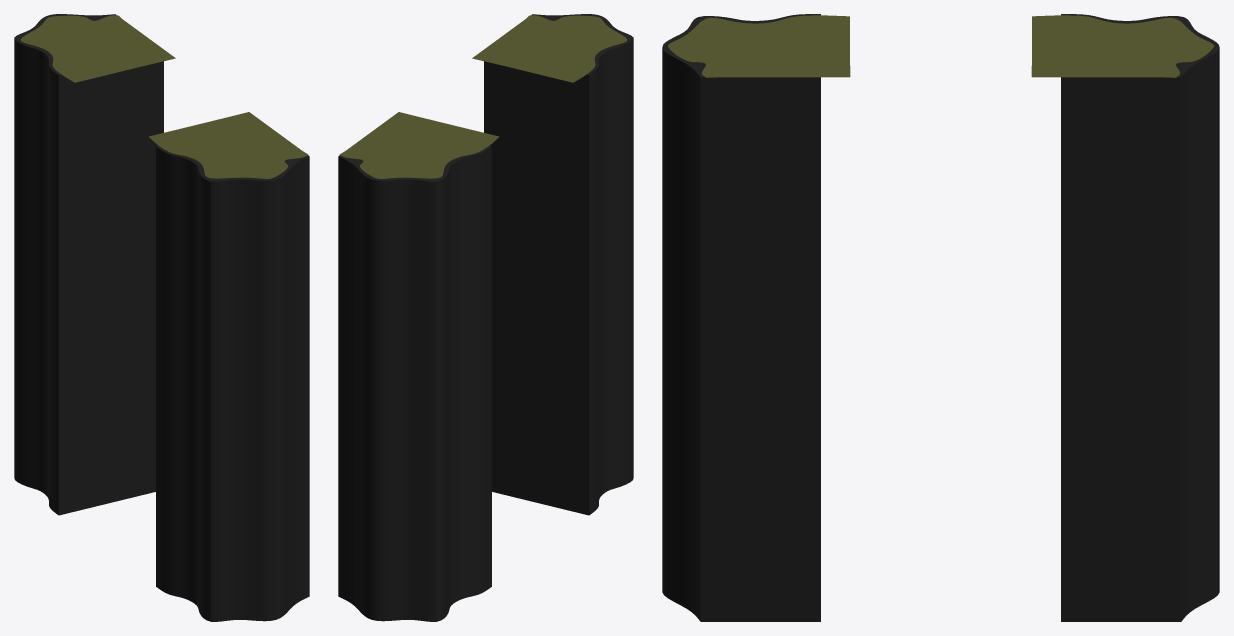
Rendered from Grass_upper.fbx.
The picture shows the model from 3 angles, left to right: view 1: azimuth 30°, elevation 25°; view 2: azimuth 150°, elevation 25°; view 3: azimuth 270°, elevation 25°; orthographic projection. The views are drawn at different scales.
Visible parts, largest first — view 1: Plane.469, Upper Grass.003; view 2: Plane.469, Upper Grass.003; view 3: Plane.469, Upper Grass.003.
Boxes of the visible parts, x1,y1,x2,y2 form: Plane.469: (14,14,309,621); Upper Grass.003: (20,15,307,178); Plane.469: (338,14,633,621); Upper Grass.003: (340,15,627,178); Plane.469: (662,14,1219,621); Upper Grass.003: (668,15,1213,77).
Bounding box in the file's own units: 12.59 × 50.02 × 46.38.
